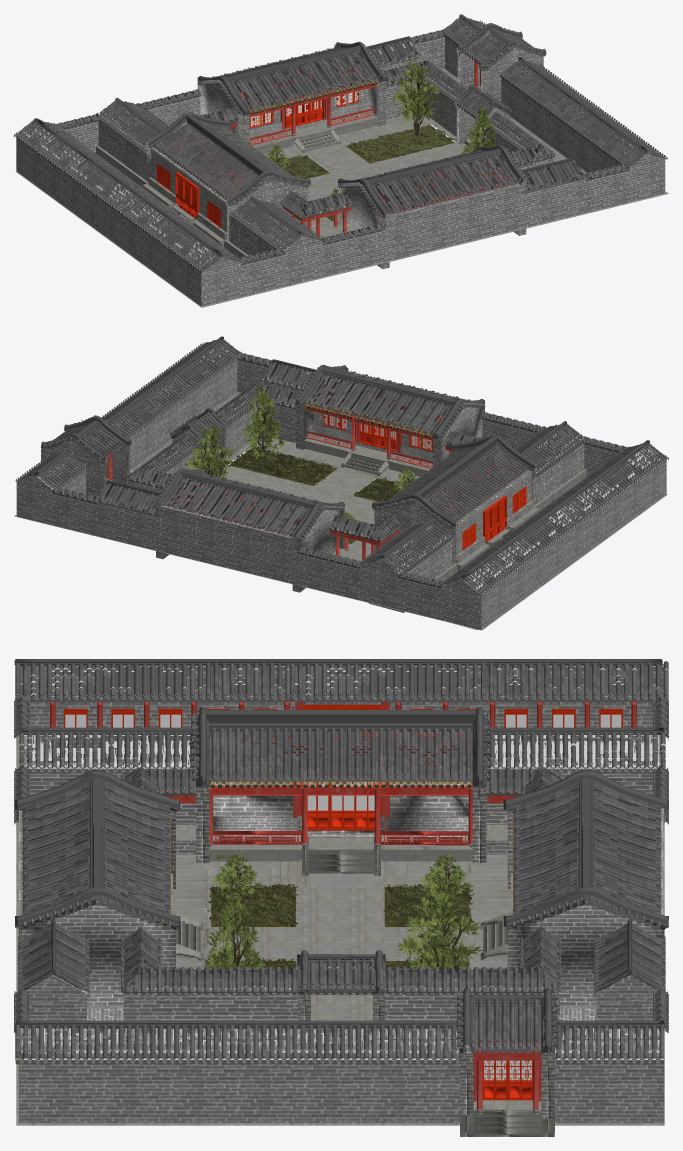
The model's file is chinese_courtyard_optimized.glb.
3 renders of one model, top to bottom at view 1: azimuth 30°, elevation 25°; view 2: azimuth 150°, elevation 25°; view 3: azimuth 270°, elevation 25°, orthographic. The views are drawn at different scales.
Parts seen in each view (by area): view 1: Object_4, Object_17, Object_15, Object_5, Object_26, Object_21, Object_14, Object_20, Object_23, Object_13, Object_11, Object_27 (+11 smaller); view 2: Object_4, Object_17, Object_15, Object_5, Object_26, Object_21, Object_14, Object_20, Object_11, Object_23, Object_13, Object_27 (+11 smaller); view 3: Object_4, Object_17, Object_5, Object_15, Object_26, Object_21, Object_20, Object_14, Object_27, Object_11, Object_13, Object_32 (+12 smaller).
Part boxes in pixels (x1,y1,x2,y2): Object_4: (16,20,665,306); Object_17: (24,17,664,270); Object_15: (18,18,656,265); Object_5: (16,69,668,307); Object_26: (34,14,647,257); Object_21: (26,20,622,242); Object_14: (15,21,665,272); Object_20: (29,29,661,267); Object_23: (16,20,665,269); Object_13: (14,21,667,272); Object_11: (168,59,497,237); Object_27: (163,53,512,236); Object_4: (16,346,666,629); Object_17: (24,340,664,588); Object_15: (19,342,658,593); Object_5: (14,392,667,630); Object_26: (35,336,649,579); Object_21: (26,356,628,586); Object_14: (17,344,667,595); Object_20: (54,339,661,584); Object_11: (185,384,416,520); Object_23: (17,342,666,592); Object_13: (15,343,668,596); Object_27: (83,381,519,559); Object_4: (19,665,664,1132); Object_17: (15,661,668,1058); Object_5: (16,735,664,1136); Object_15: (17,663,668,1057); Object_26: (14,659,668,1052); Object_21: (29,662,654,1052); Object_20: (15,663,665,1057); Object_14: (14,695,668,1060); Object_27: (50,701,636,1109); Object_11: (202,853,482,972); Object_13: (14,698,668,1064); Object_32: (64,704,622,1100).
Size of the model in its own units: 16.96 by 2.8 by 11.5.
26 materials, 21 textured.
